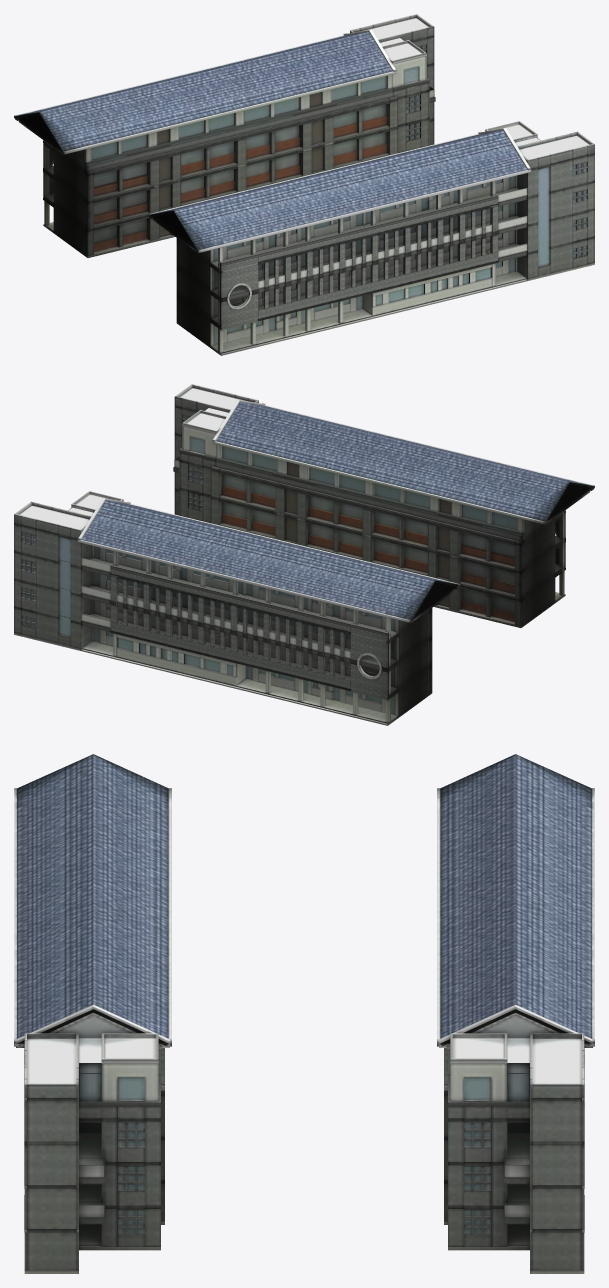
The model's file is teaching_A1Texture.glb.
3 views of the same model, one above another, from view 1: azimuth 30°, elevation 25°; view 2: azimuth 150°, elevation 25°; view 3: azimuth 270°, elevation 25° (orthographic). The views are drawn at different scales.
Visible parts, largest first — view 1: 教学楼A1; view 2: 教学楼A1; view 3: 教学楼A1.
Boxes of the visible parts, x1,y1,x2,y2 form: 教学楼A1: (14,14,594,355); 教学楼A1: (14,384,594,725); 教学楼A1: (14,754,594,1273).
Size of the model in its own units: 58.7 by 19.26 by 47.
Materials: 1 (1 with a texture image).
